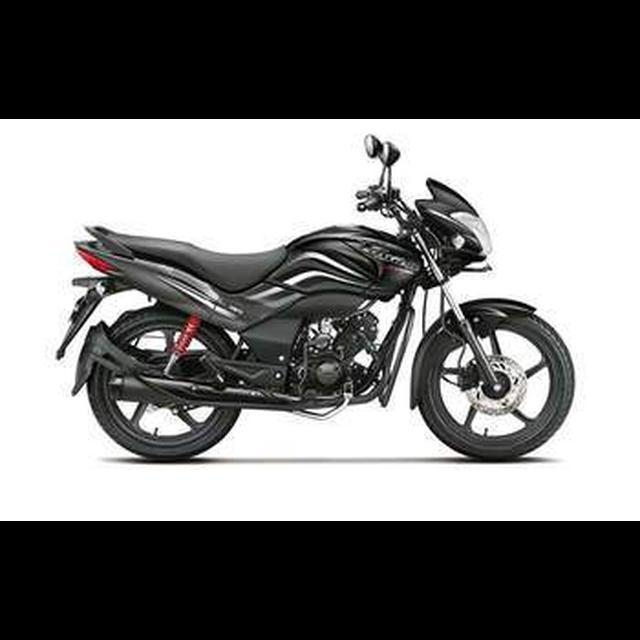motorcycle: (51, 127, 581, 467)
